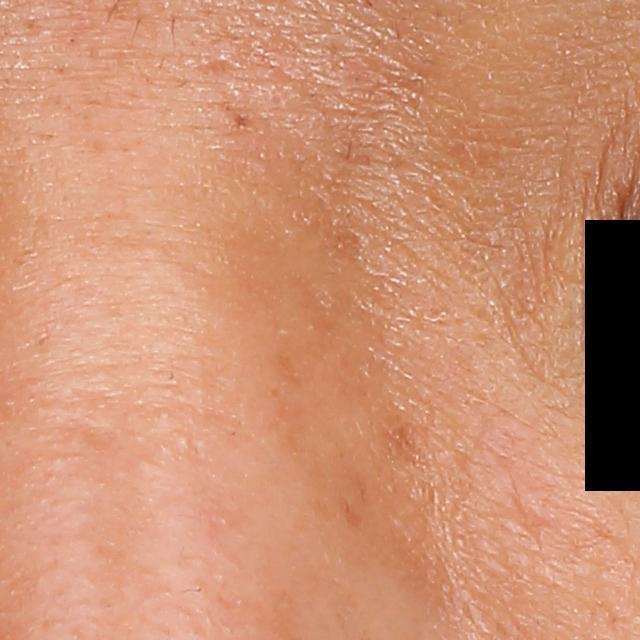melasma: (377, 410, 436, 476), (336, 491, 367, 530)
